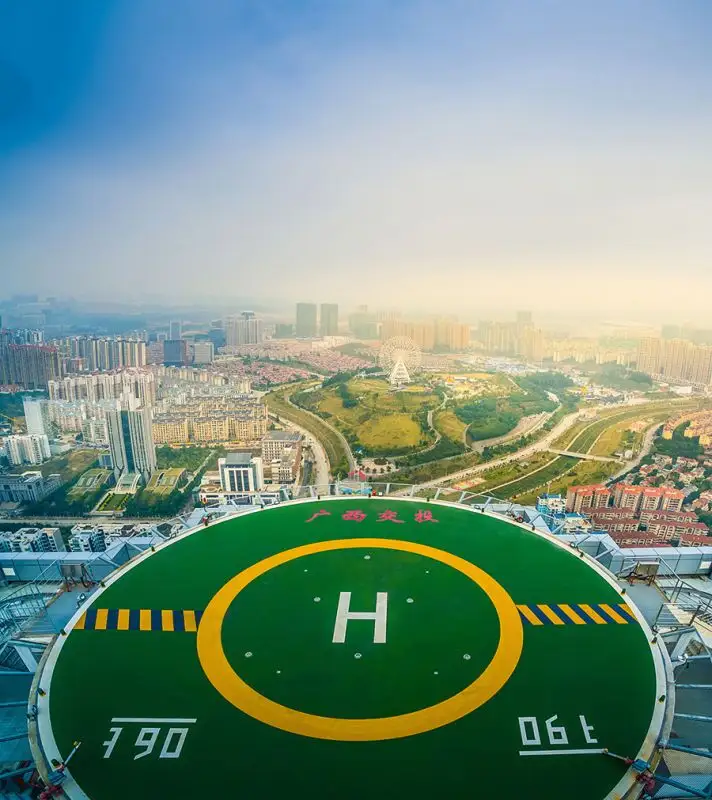Apron: (197, 536, 525, 744)
